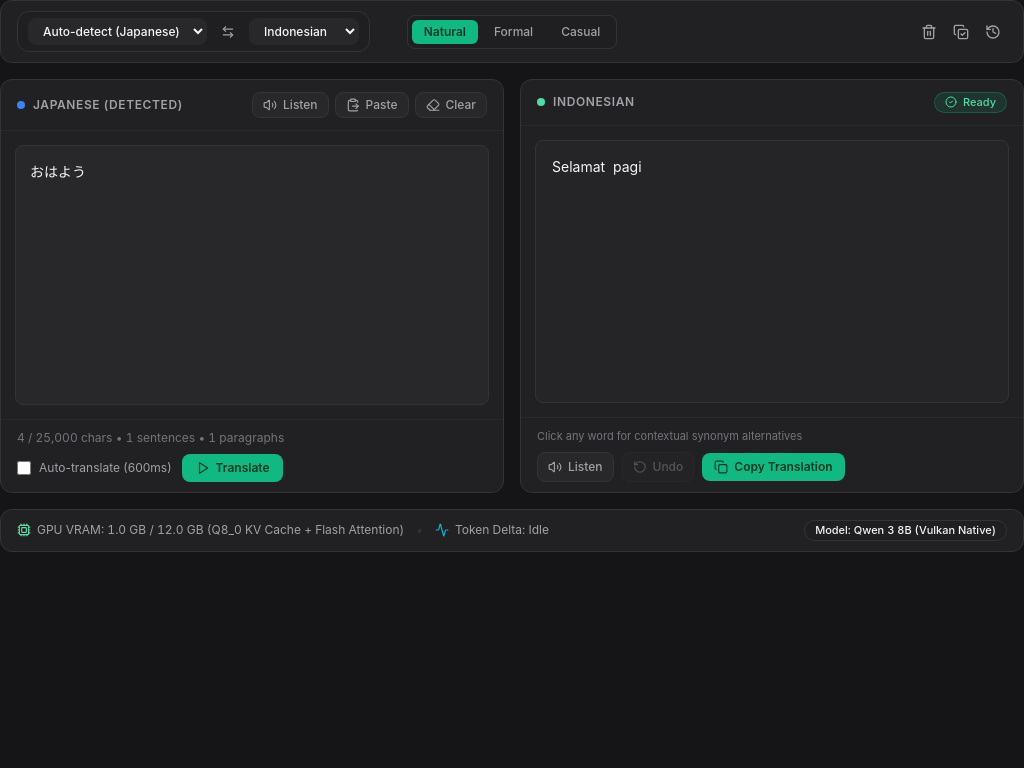
Test: TextTranslatorPage Flows › swaps detected Japanese source and Indonesian target cleanly
Click the button named "Swap languages" at coordinates (228, 32), box [215, 18, 241, 44]
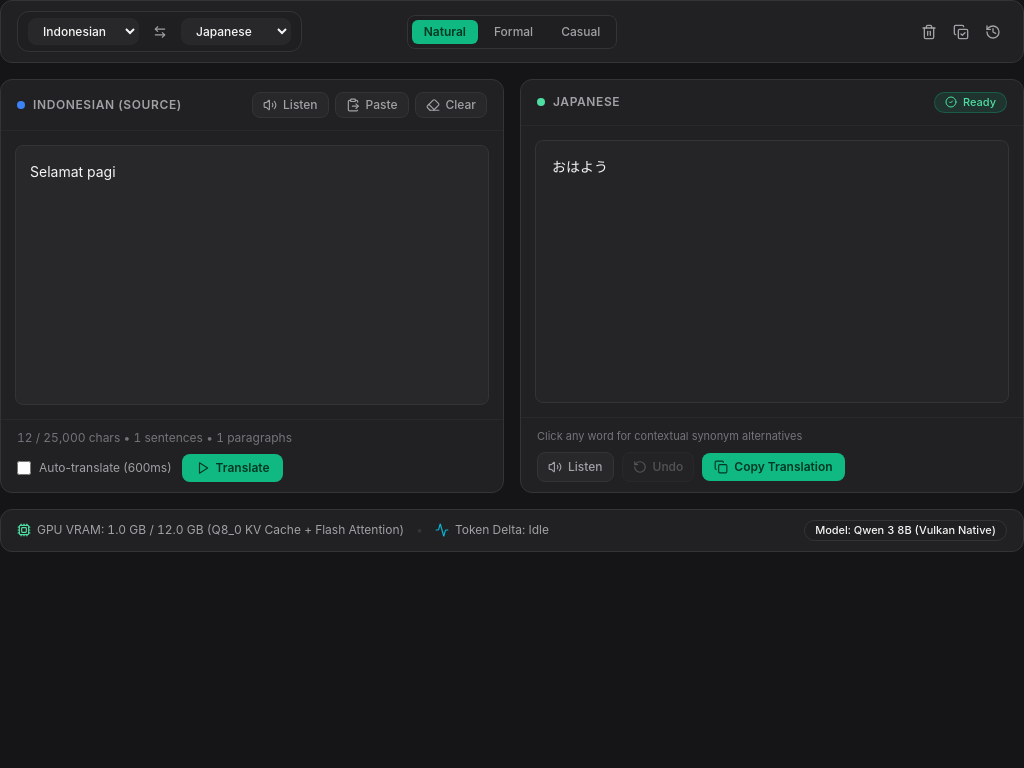
Expected: the button "おはよう" is shown, [550, 155, 610, 179]
